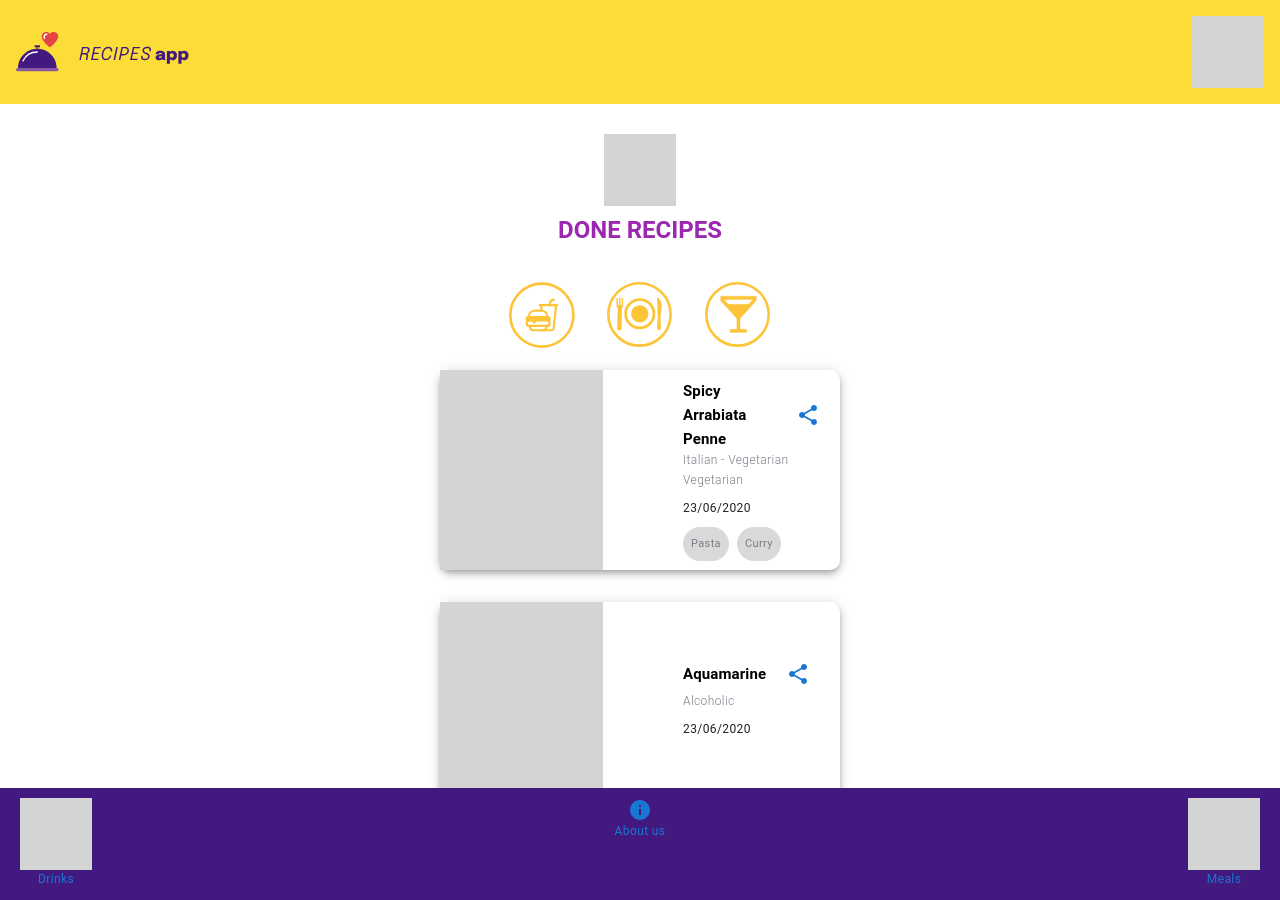
Test: Testando a página Done Recipes › Testa se ao clicar no botão Meals, apenas as receitas de comida são exibidas
Expected: the heading "Spicy Arrabiata Penne" is shown, [683,379,840,451]
Expected: the heading "Aquamarine" is shown, [683,656,840,692]
Click the button with test id "filter-by-meal-btn" at {"x": 640, "y": 315}, box [599,276,681,354]
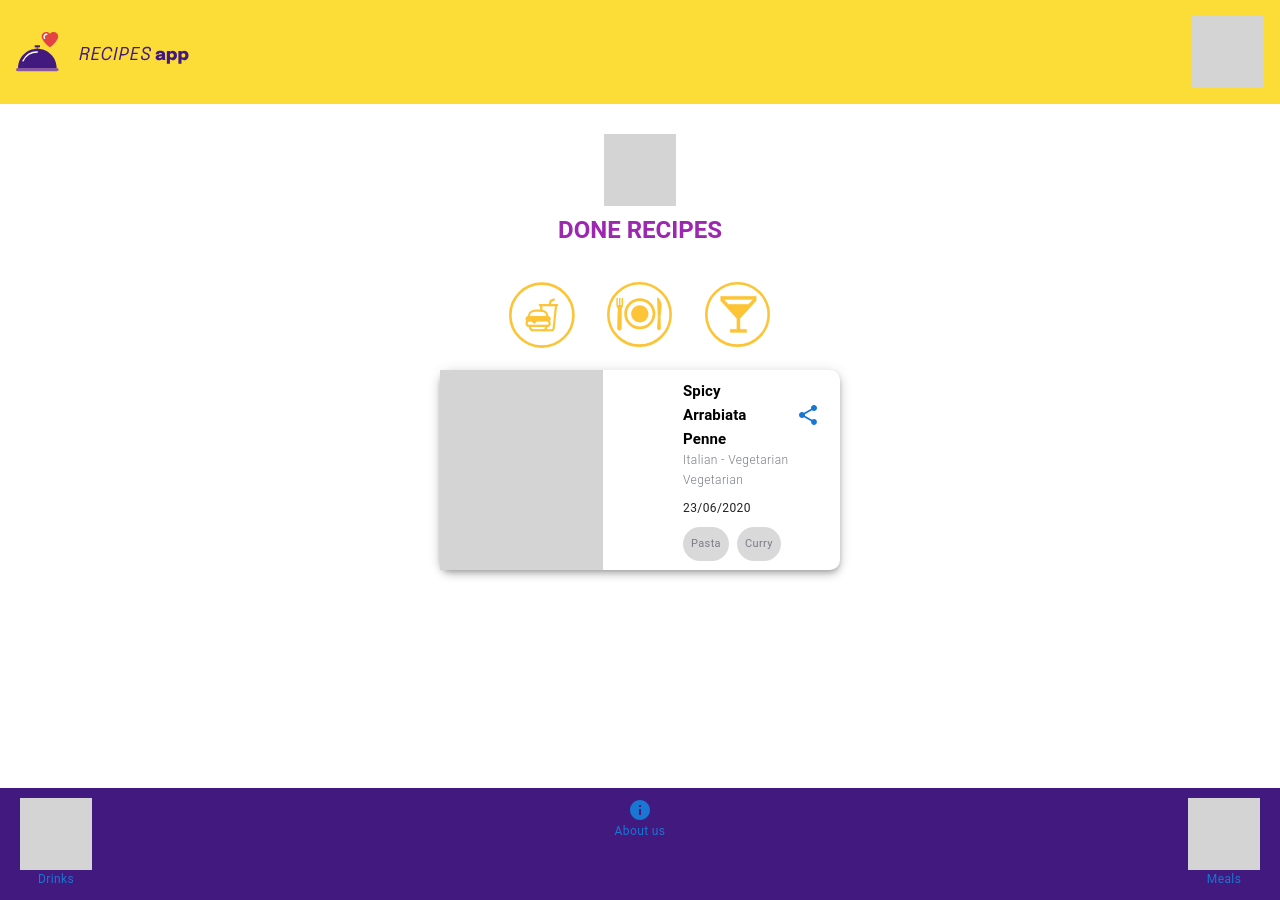
Expected: the heading "Spicy Arrabiata Penne" is shown, [683,379,840,451]
Expected: the heading with test id "1-horizontal-name" is gone
